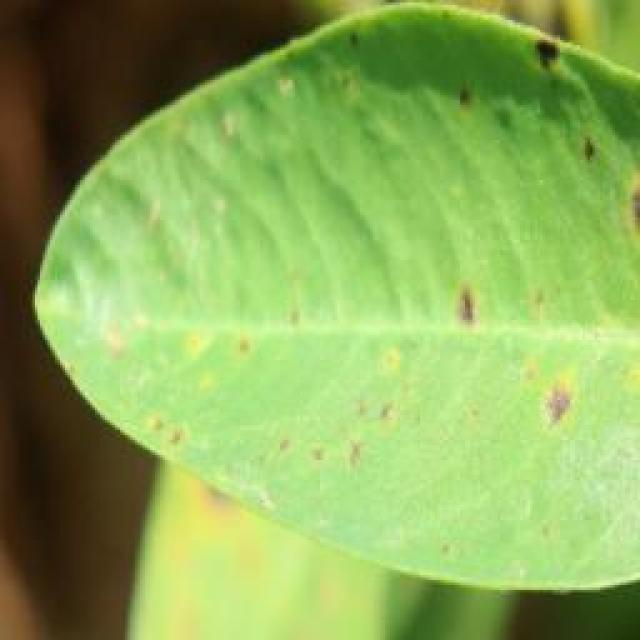Sigatoka: (228, 340, 428, 499), (77, 290, 269, 450), (407, 274, 584, 444), (492, 35, 601, 151), (281, 0, 378, 46), (437, 64, 490, 125), (606, 156, 640, 240)
